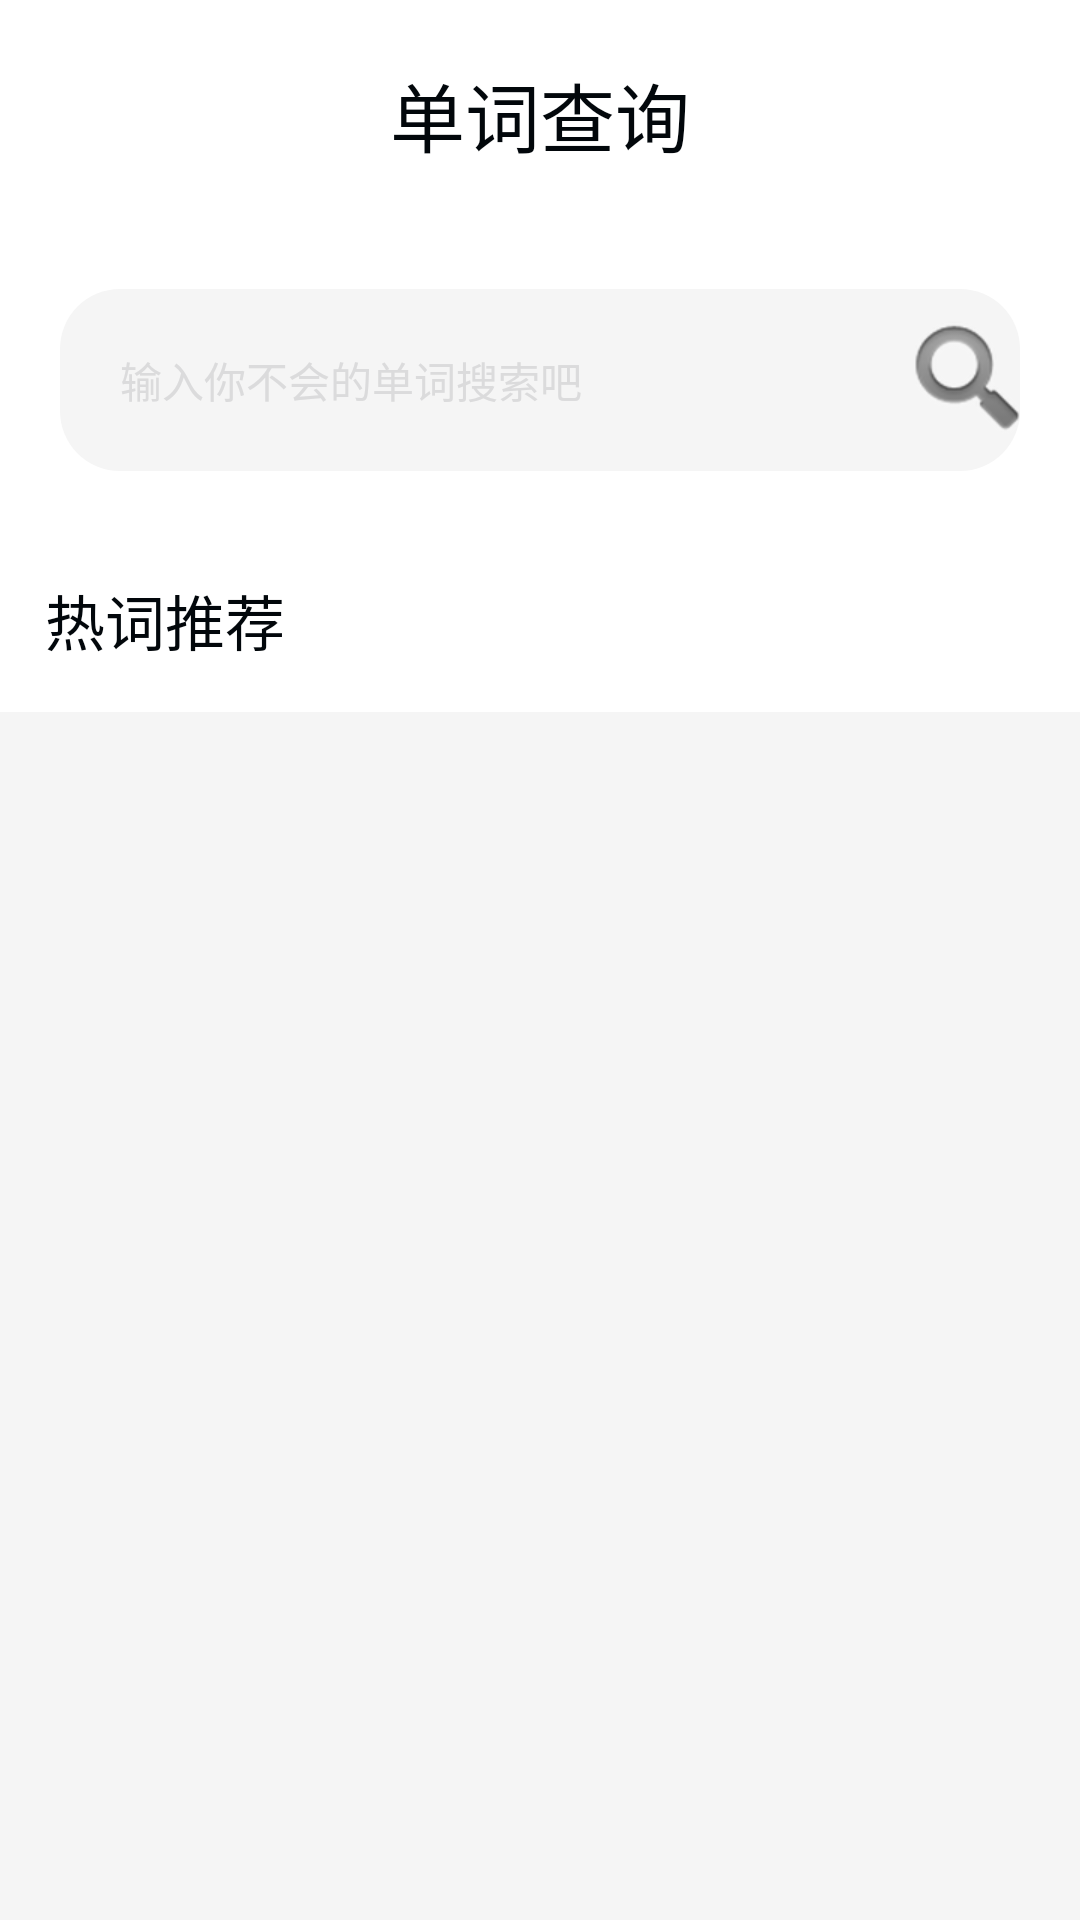

Icon bounding boxes for this 1080x1920 phone screenshot, format (x1=x1, y1=y1, x2=x2, y2=y2):
search category: (x1=915, y1=325, x2=1019, y2=429)
